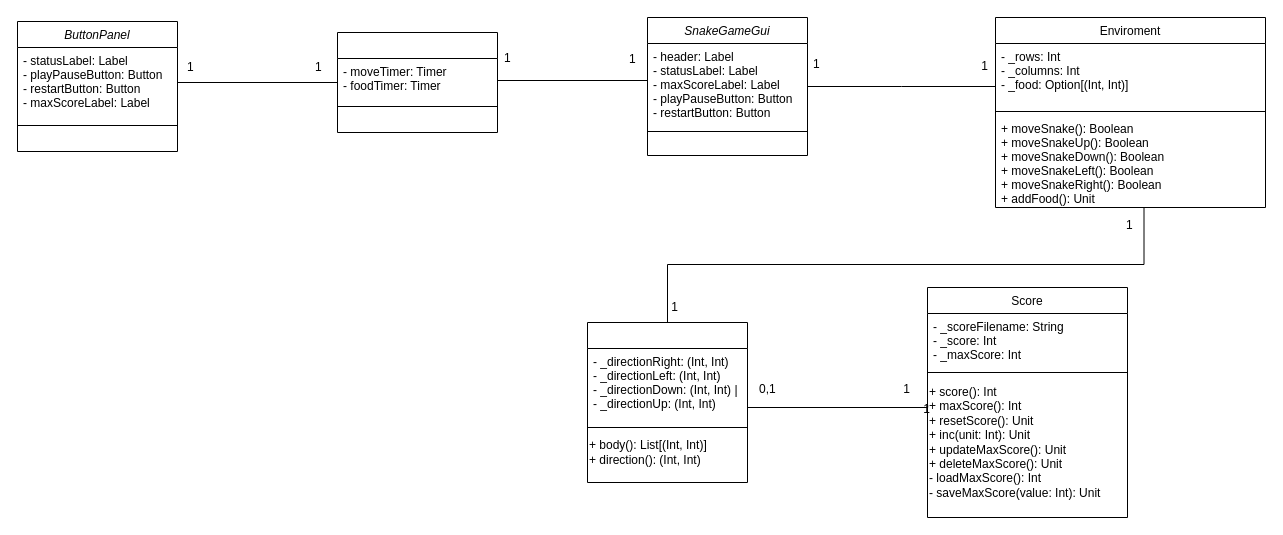
Image size: 1283x535. Some labels were removed from this diagram. The shapes that lost their labels are listed below. From the top down, each one's box as (x1, y1, x2, y2) in pixels, then its label:
(336, 32, 498, 132): GamePanel
(586, 322, 748, 482): Snake
